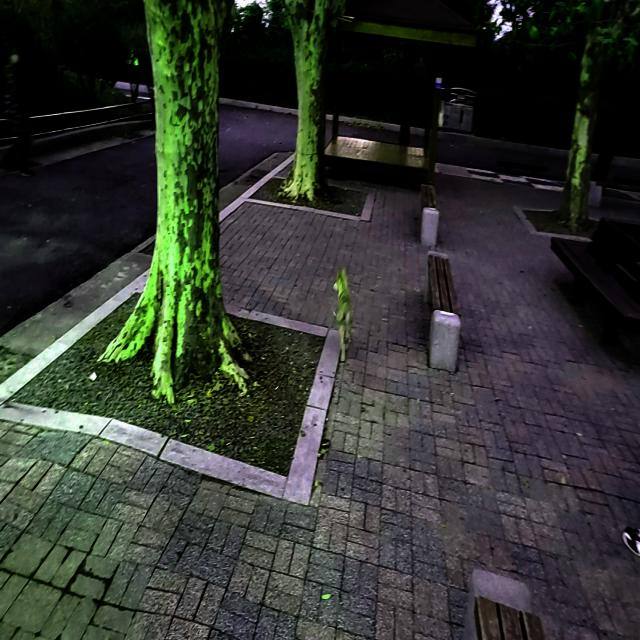Dog: (332, 266, 352, 362)
